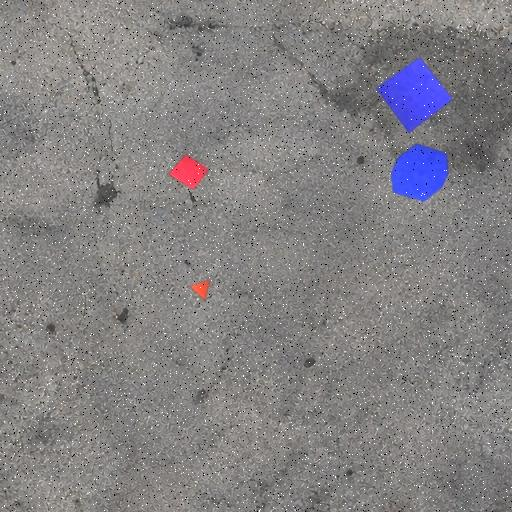BLUE_SQUARE: (375, 56, 454, 134)
RED_SQUARE: (168, 154, 210, 190)
